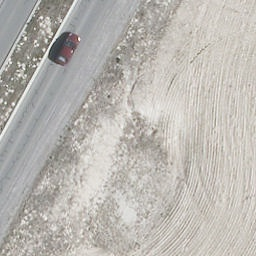car: (54, 33, 82, 67)
